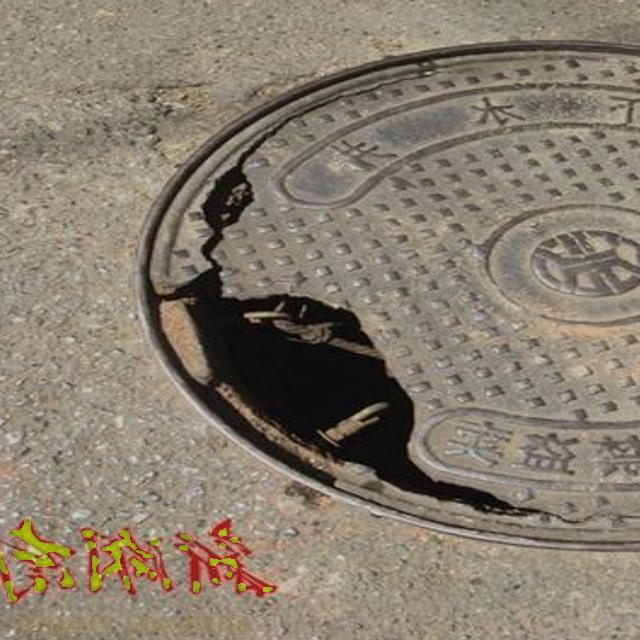broke: (136, 10, 640, 545)
